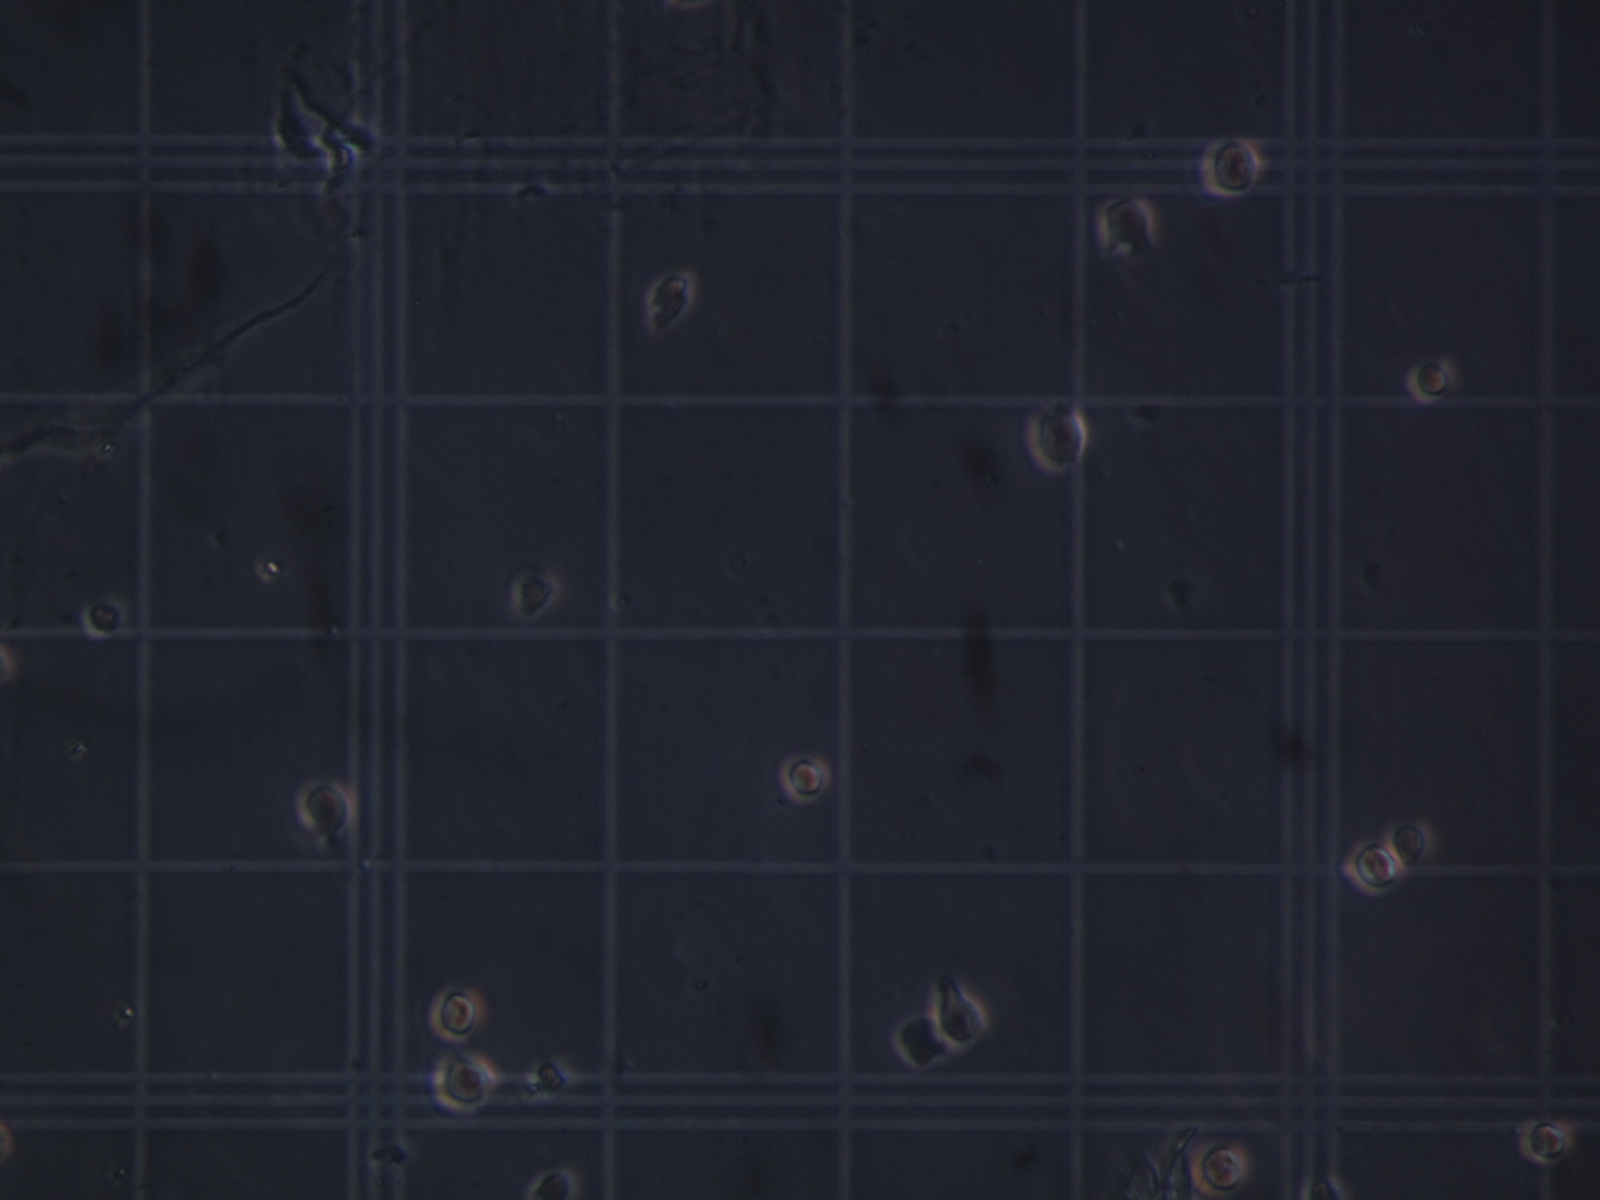hemo: (430, 1049, 496, 1118), (1024, 403, 1091, 471), (1197, 131, 1260, 197), (1095, 192, 1155, 257), (926, 989, 990, 1050), (294, 779, 353, 839), (1189, 1138, 1250, 1197), (1342, 842, 1405, 897), (430, 984, 486, 1044), (648, 272, 693, 335), (506, 568, 559, 621), (779, 753, 831, 805), (1519, 1117, 1576, 1166), (1406, 354, 1456, 406), (1380, 821, 1432, 870), (81, 592, 129, 640), (529, 1168, 574, 1199)
